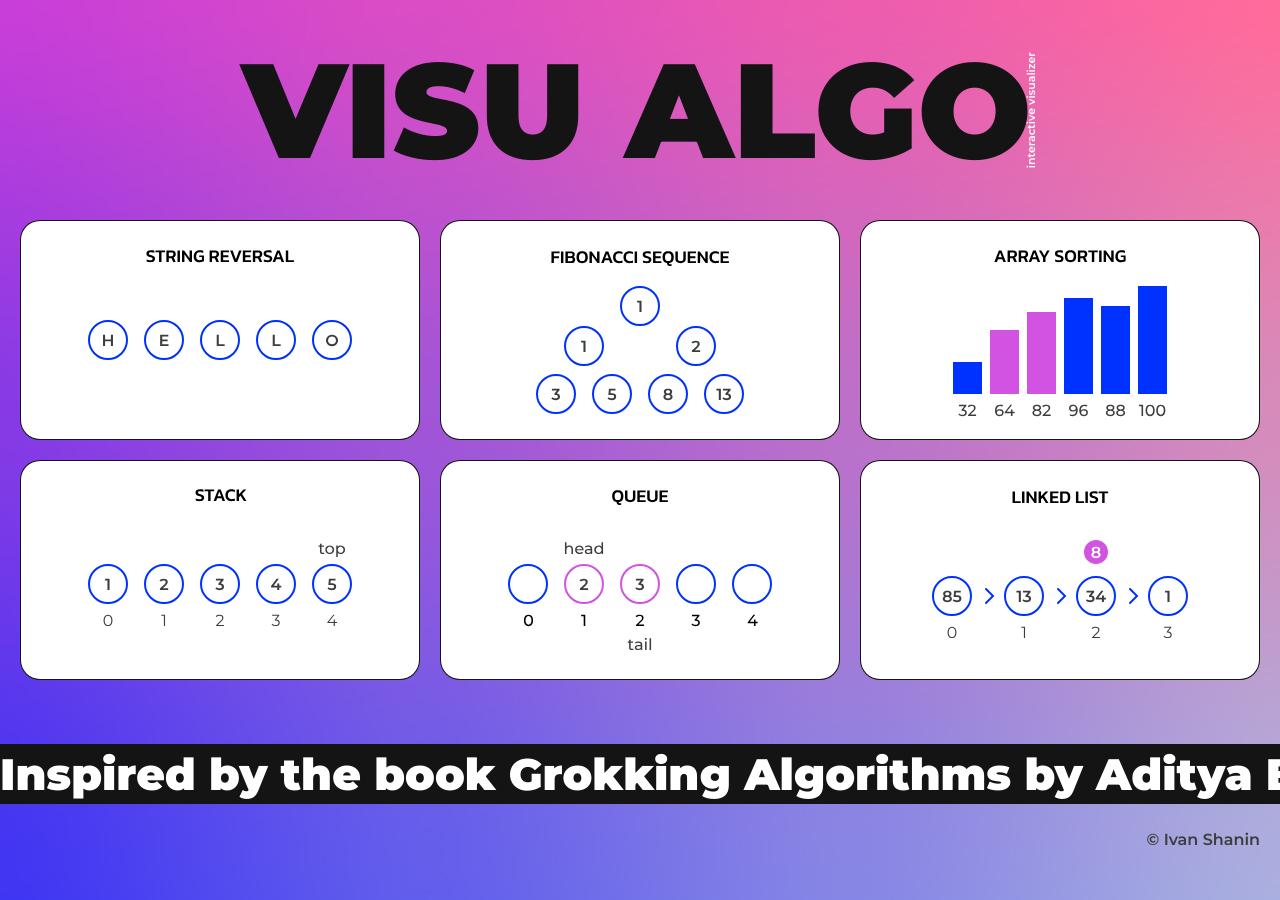
Scenario: App routing tests › renders app component and navigates to string page
This screenshot has width=1280, height=900.
Click the link with test id "string-page-link".
click(220, 330)  # box [20,220,420,440]
(page scrolled)
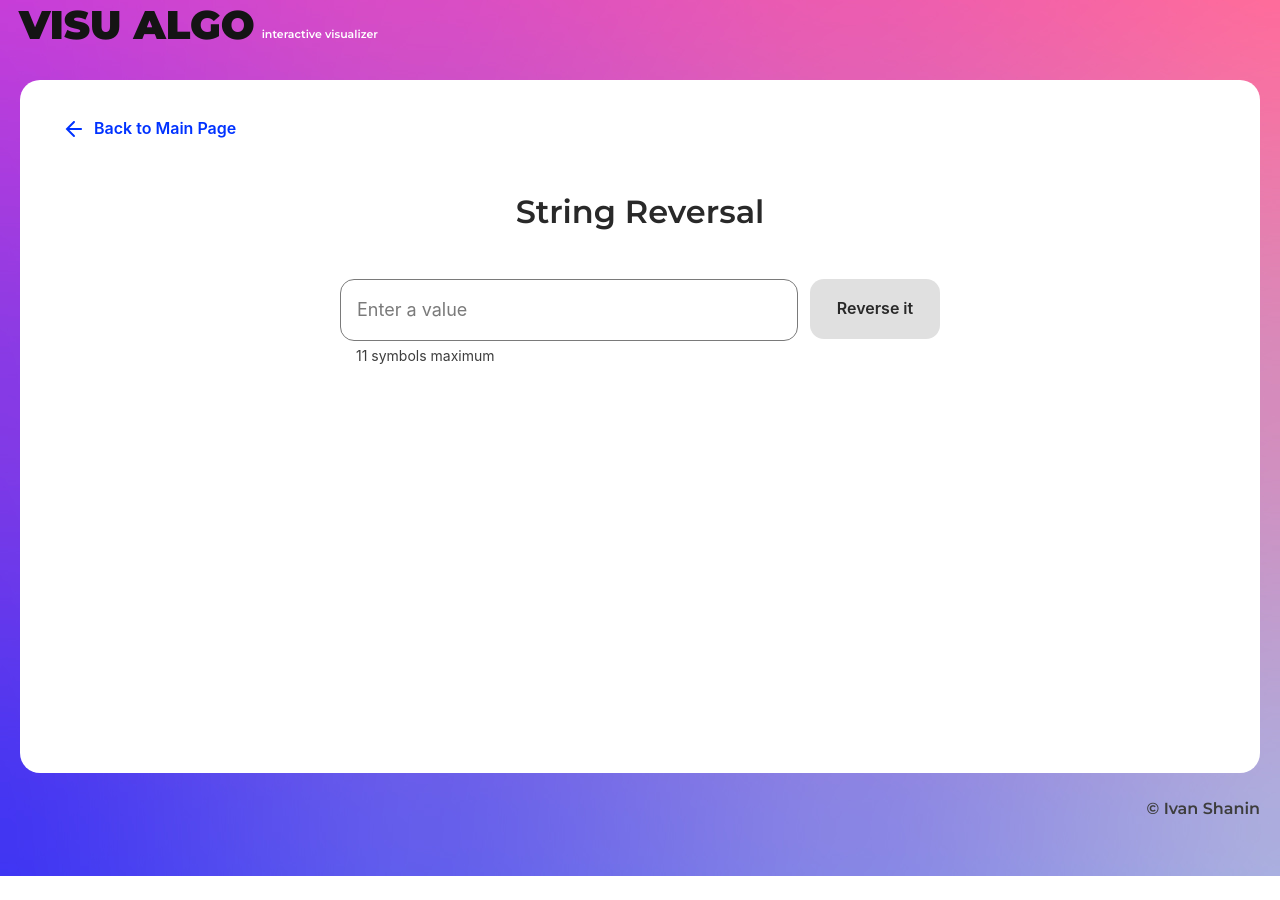
Result: the element with test id "string-page" is shown at [340,278,940,364]
